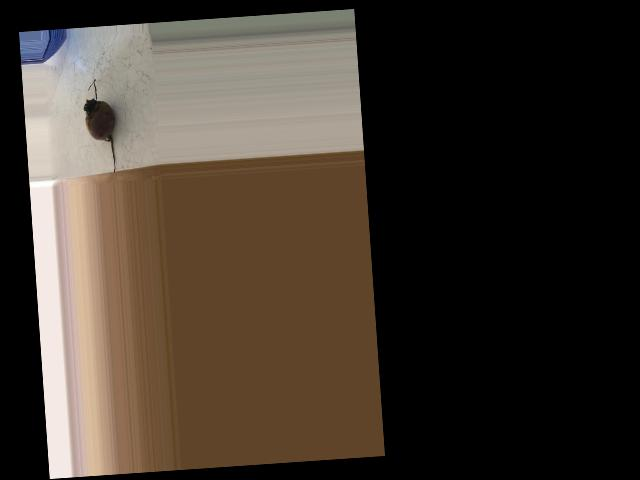beet: (82, 78, 118, 177)
